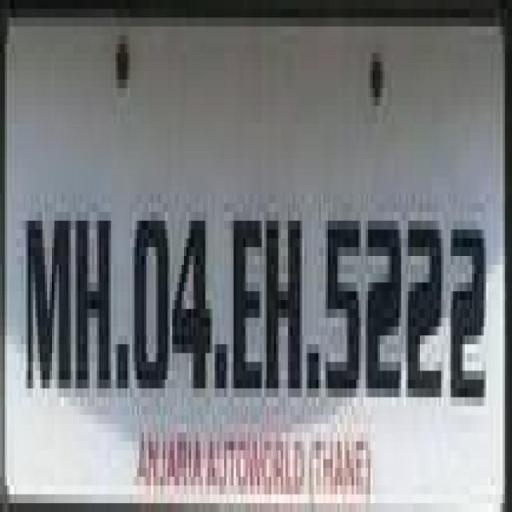number plate: (0, 9, 490, 477)
